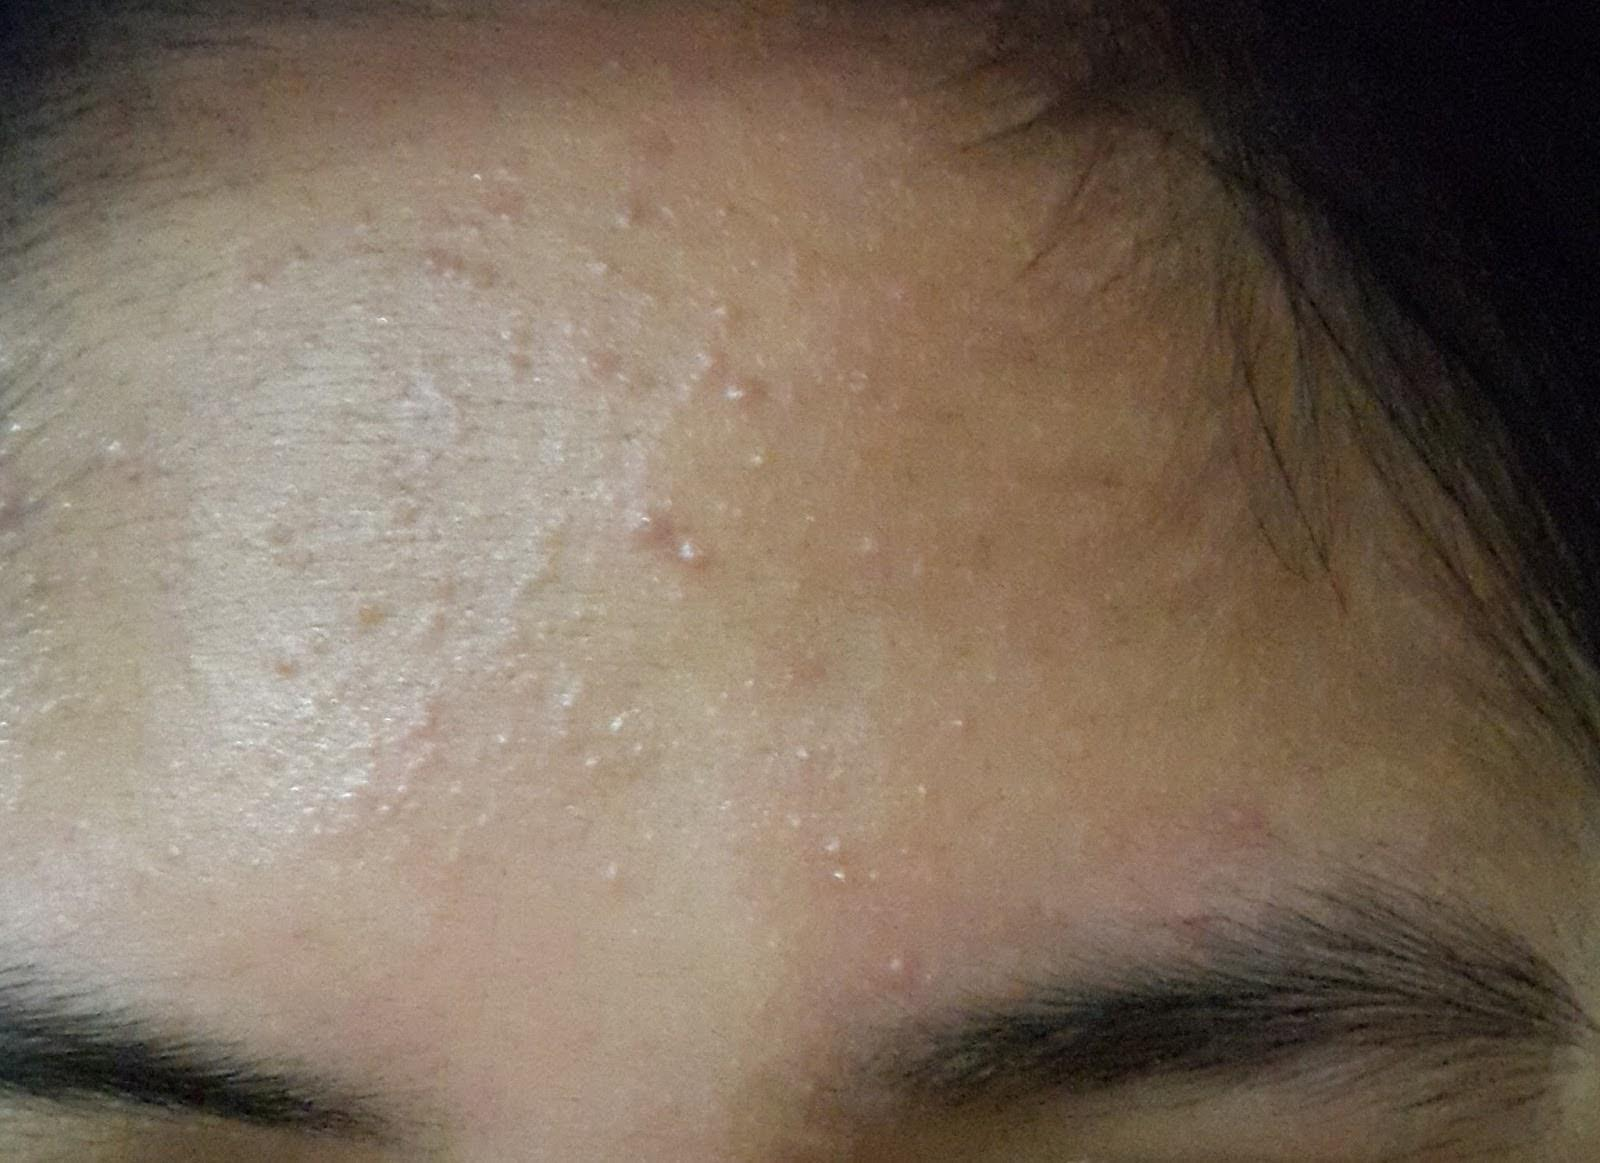Acne: (188, 98, 1284, 977)
